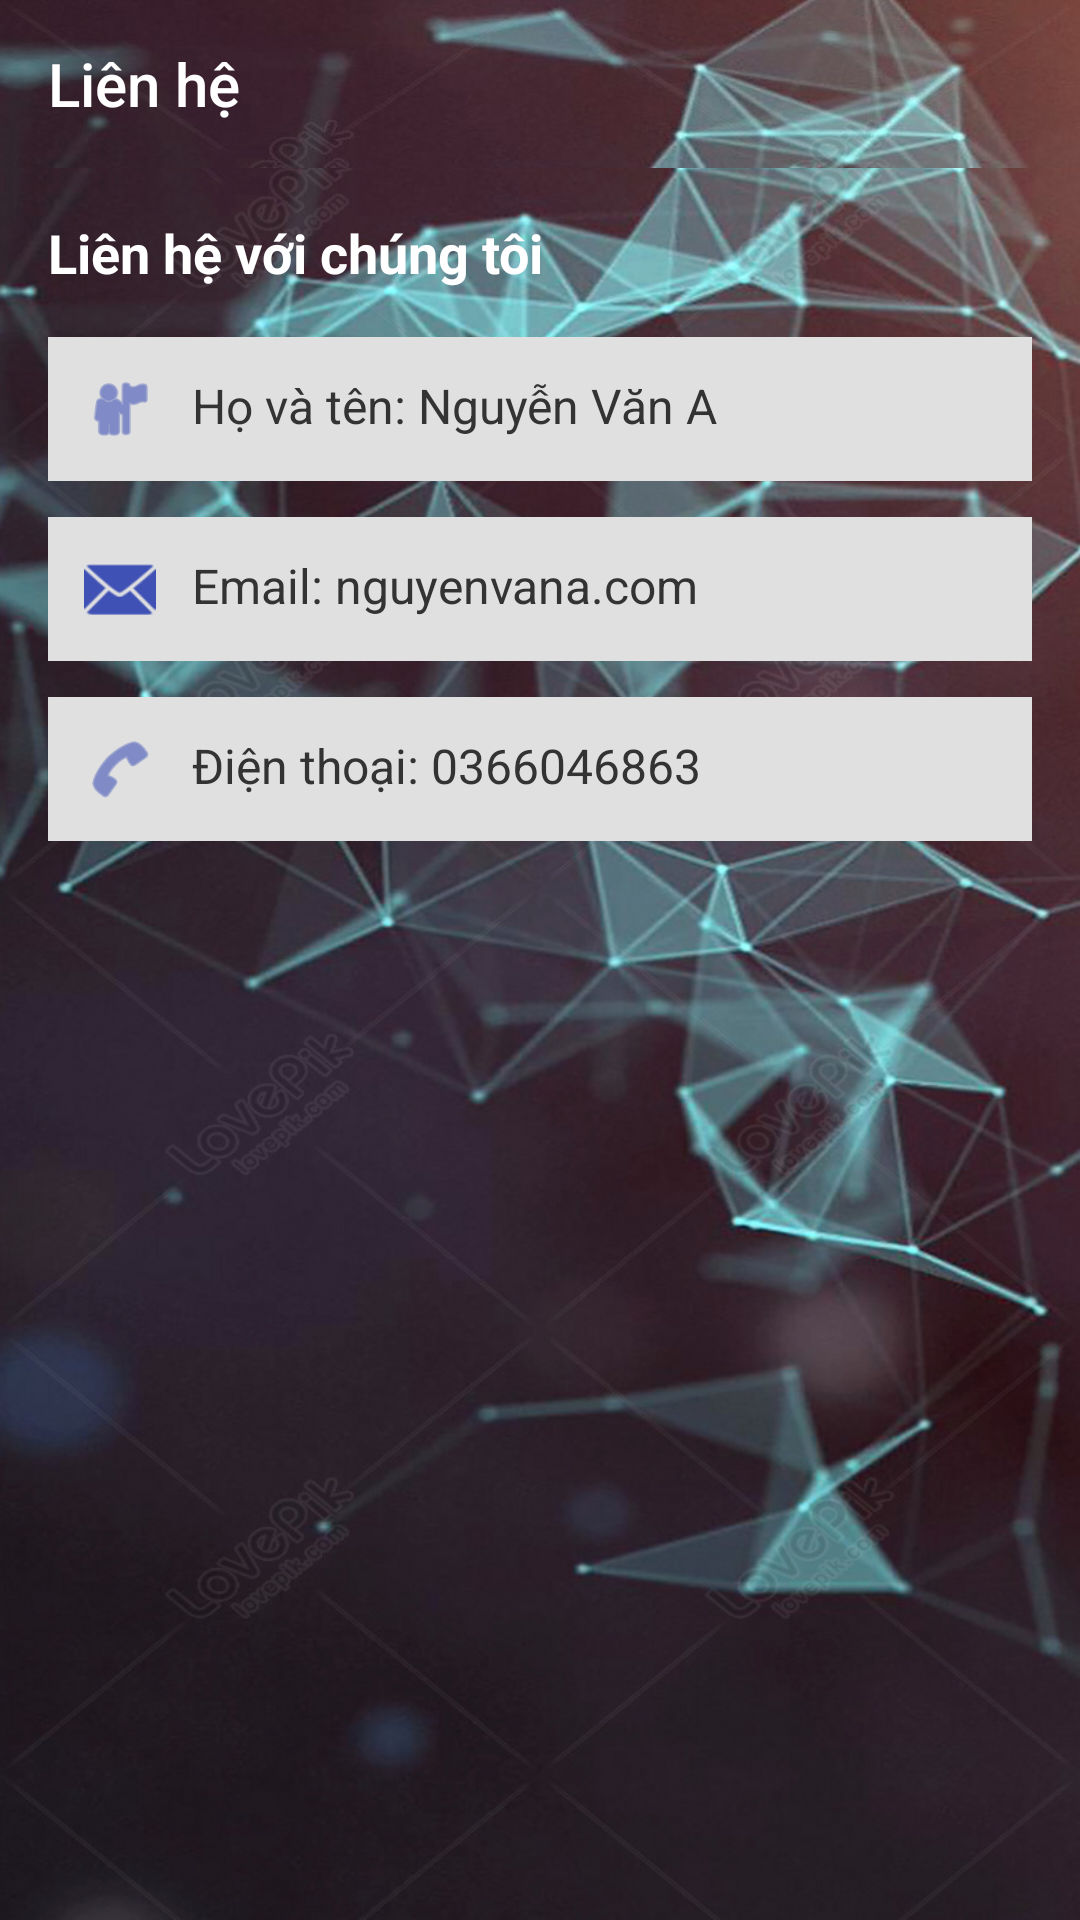

Icon bounding boxes for this 1080×1920 phone screenshot, format (x1, y1, x2, y2):
call: (92, 741, 148, 797)
myplaces: (94, 382, 148, 436)
